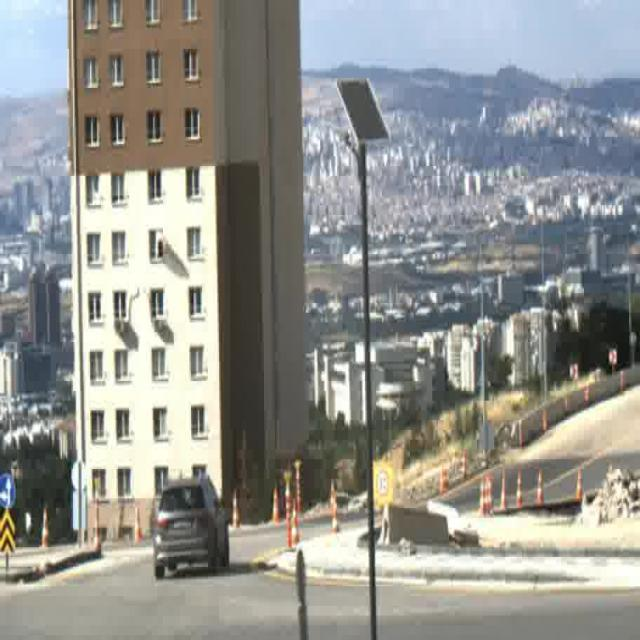Car: (155, 477, 230, 577)
